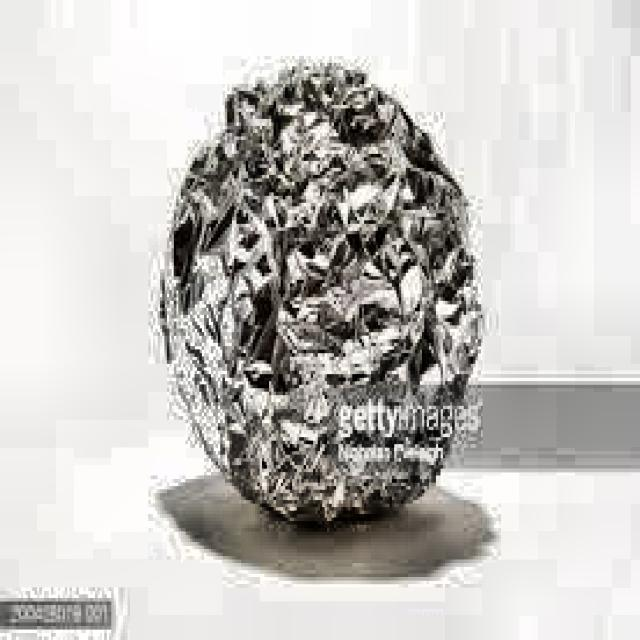Foil: (153, 57, 494, 549)
